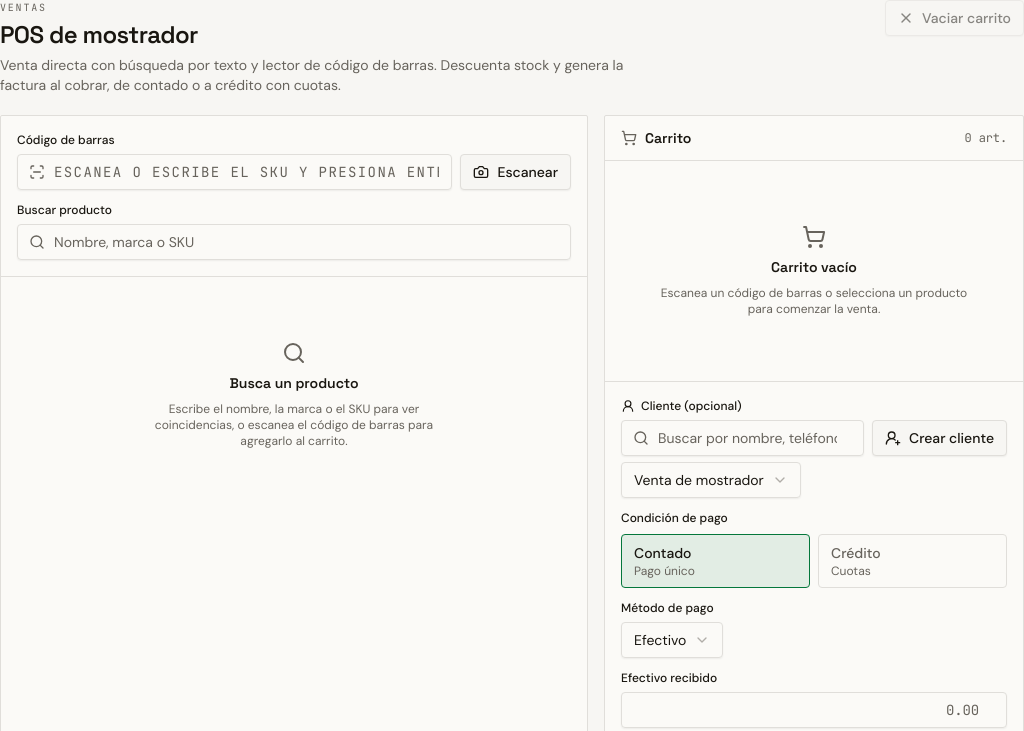
Test: PosPage customer seam › opens the notify dialog for the selected customer and sends to their email
Click the dropdown with test id "pos.customer_select" at [711, 480], box x1=621 y1=462 x2=801 y2=498
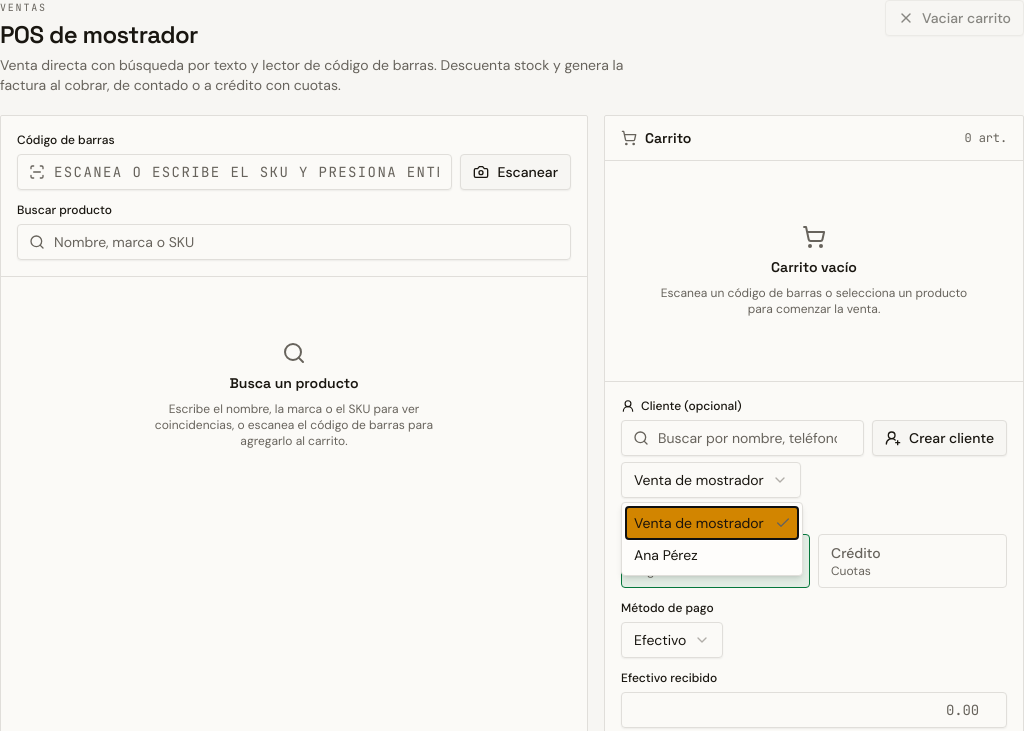
Click the option "Ana Pérez" at [666, 555], box x1=634 y1=546 x2=698 y2=564
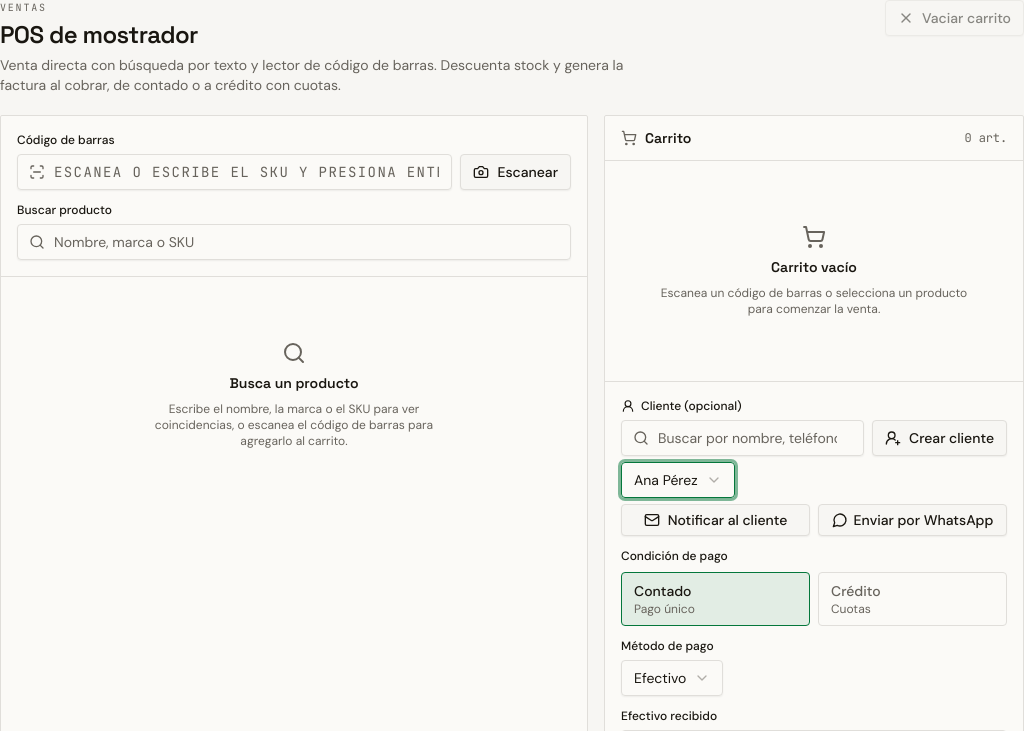
Click the button with test id "pos.notify_button" at [716, 520], box x1=621 y1=504 x2=810 y2=536
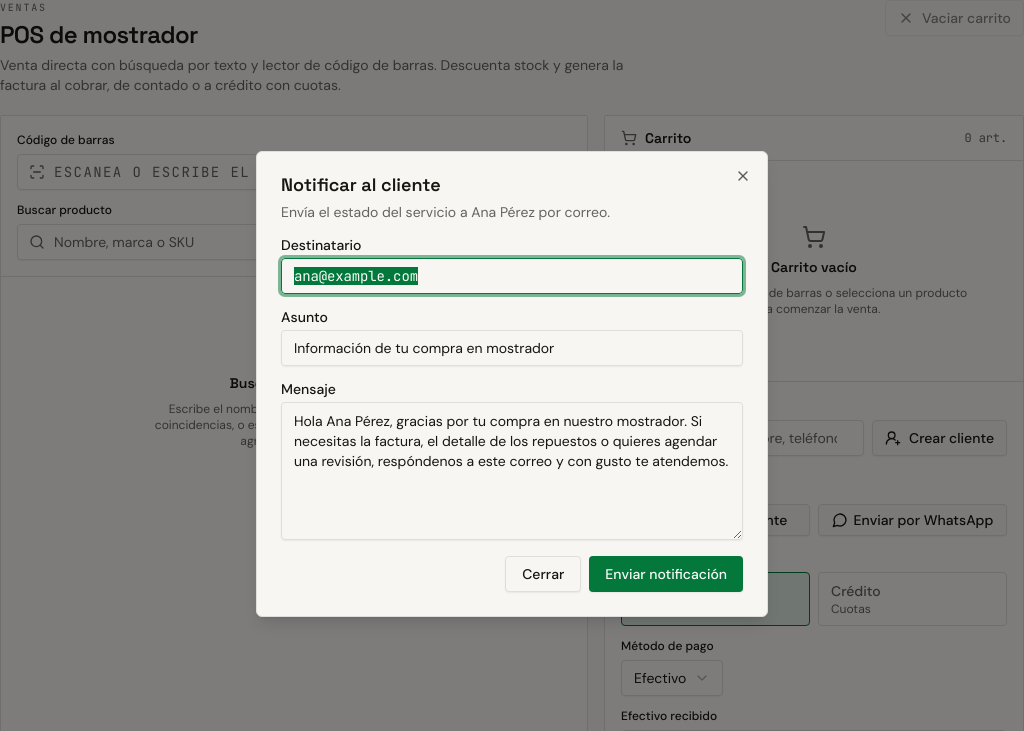
Now the field with test id "notify.recipient_input" holds "ana@example.com", box x1=281 y1=258 x2=743 y2=294
Click the button with test id "notify.submit_button" at [666, 574], box x1=589 y1=556 x2=743 y2=592
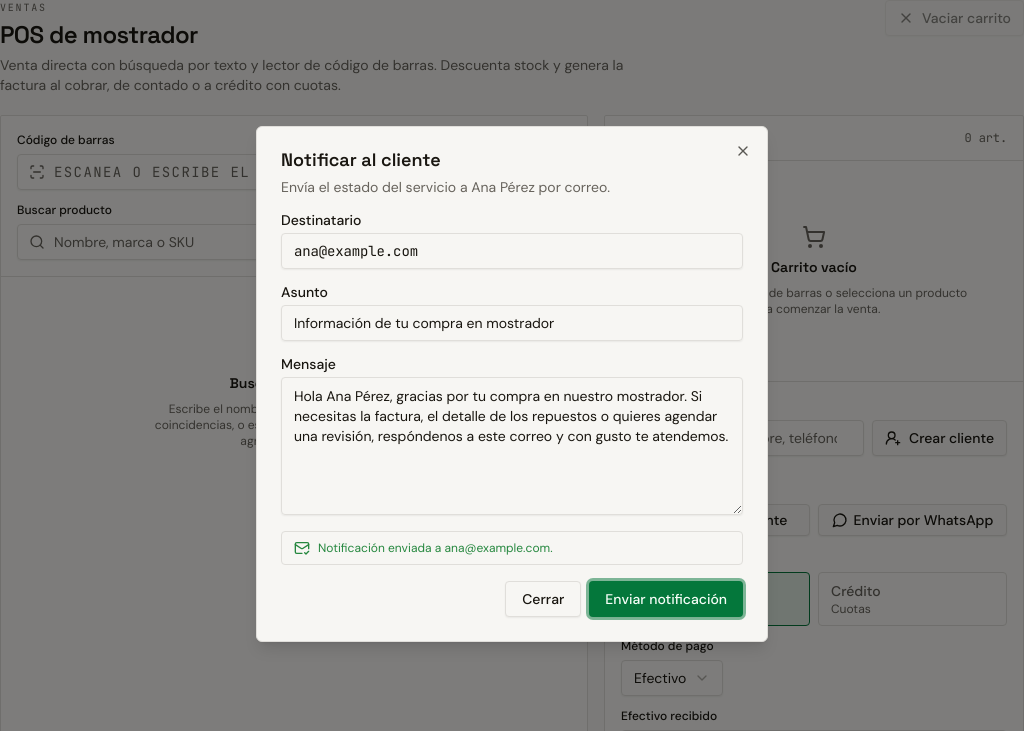
Now the element with test id "notify.success_state" shows "ana@example.com", box x1=444 y1=540 x2=550 y2=556
